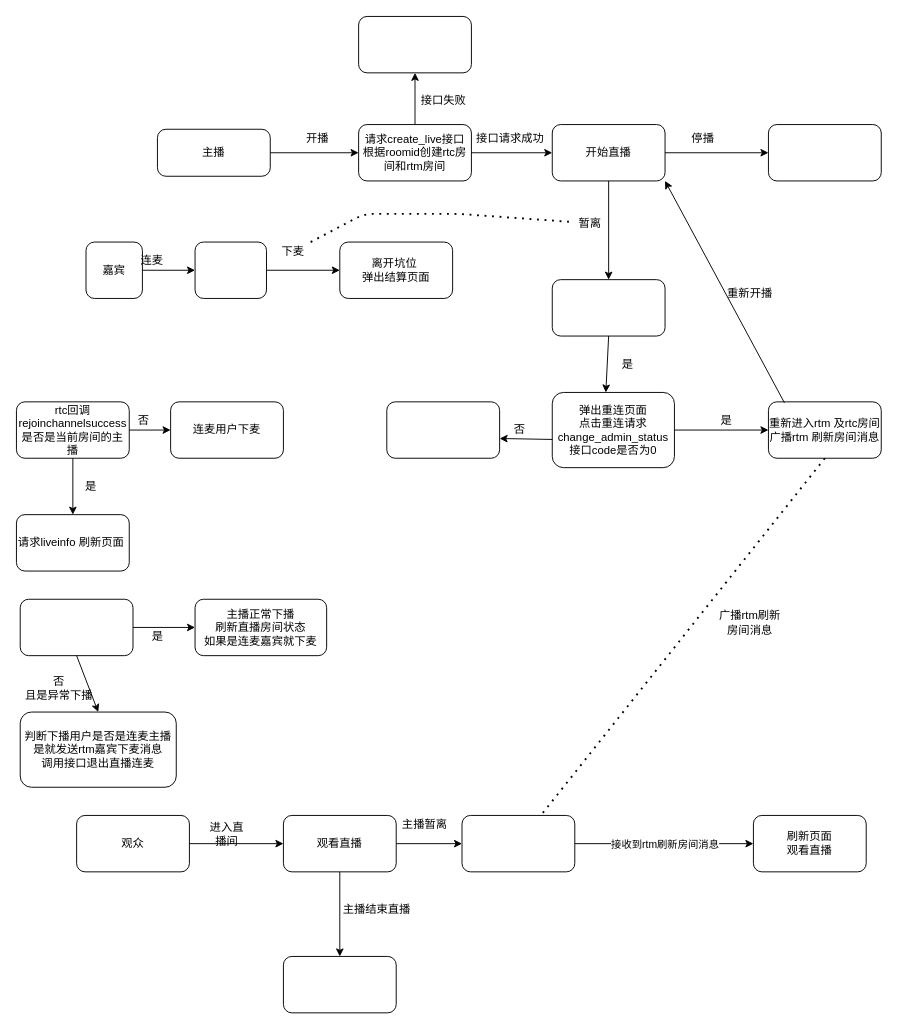
The diagram is 898 pixels wide and 1029 high, and some of its shapes have lost their labels. Here are the shapes that lost their labels. From the top down, the centre of each, then its label:
At point 414,44: "观看正在直播的直播间".
At point 824,152: "退出房间 请求结算接口 弹出结算页面".
At point 230,269: "连麦嘉宾".
At point 608,307: "请求get_achor_status接口 roomuserstatus是否为2？".
At point 443,429: "进入直播页面观看其他主播直播".
At point 76,627: "rtc回调 useroffline 离线用户是否是主播".
At point 518,843: "显示主播暂离页面".
At point 339,984: "显示直播间结束页面".
